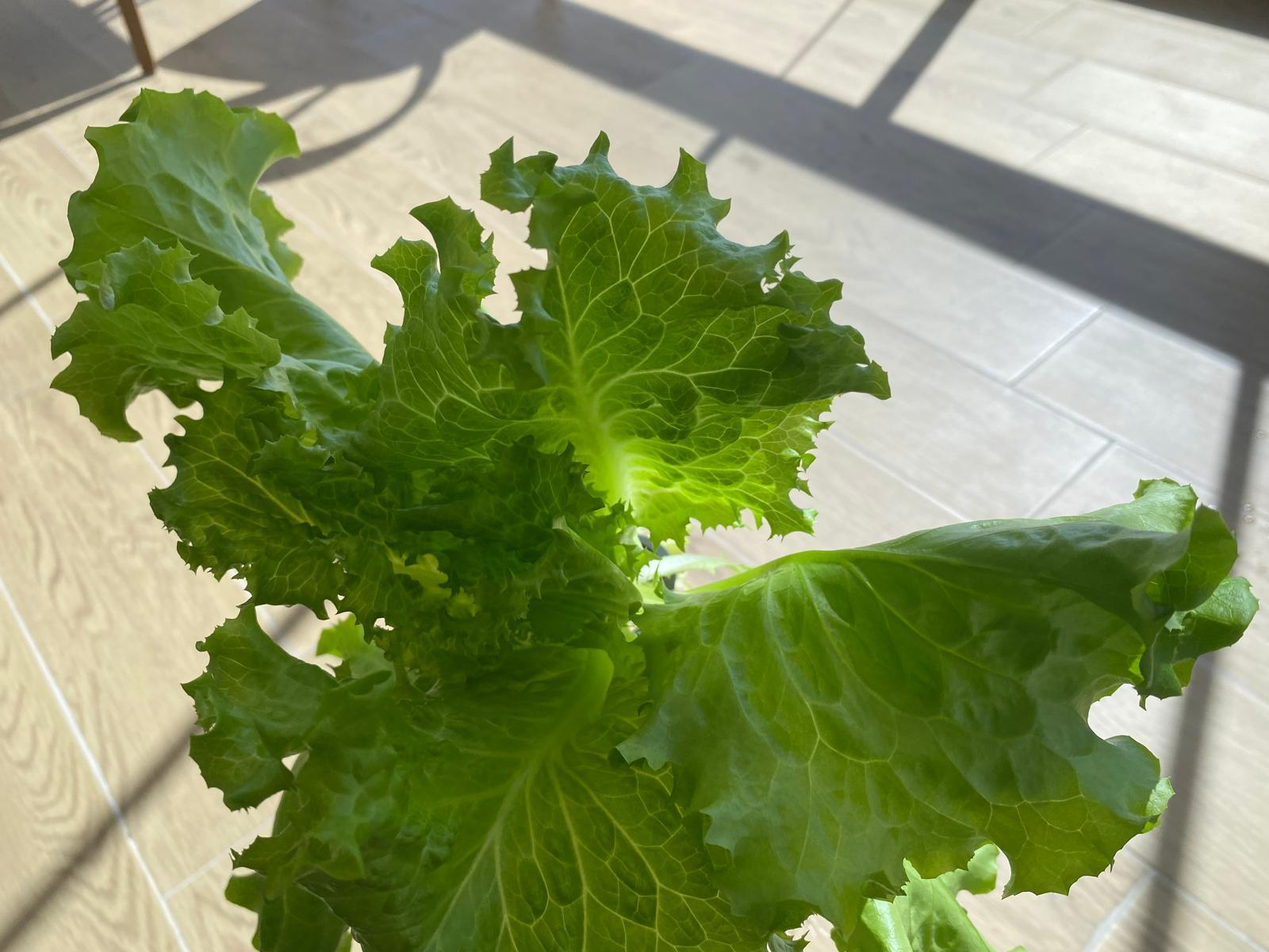Healthy Lettuce: (44, 84, 1261, 952)
